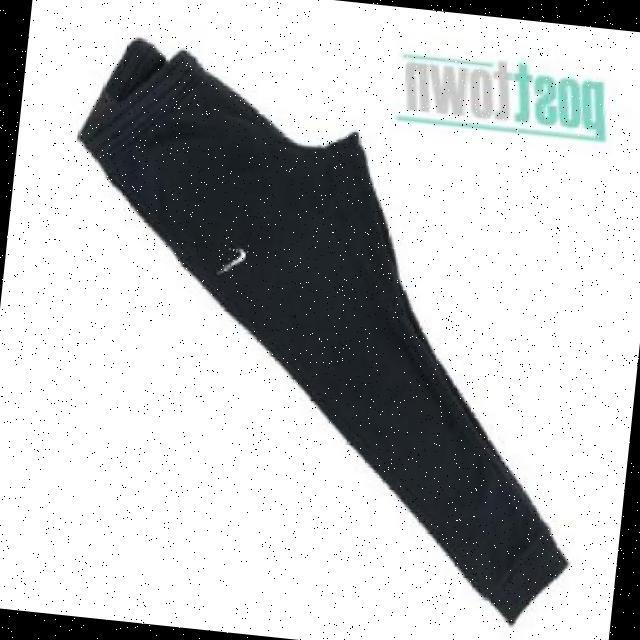Nike: (222, 241, 251, 270)
